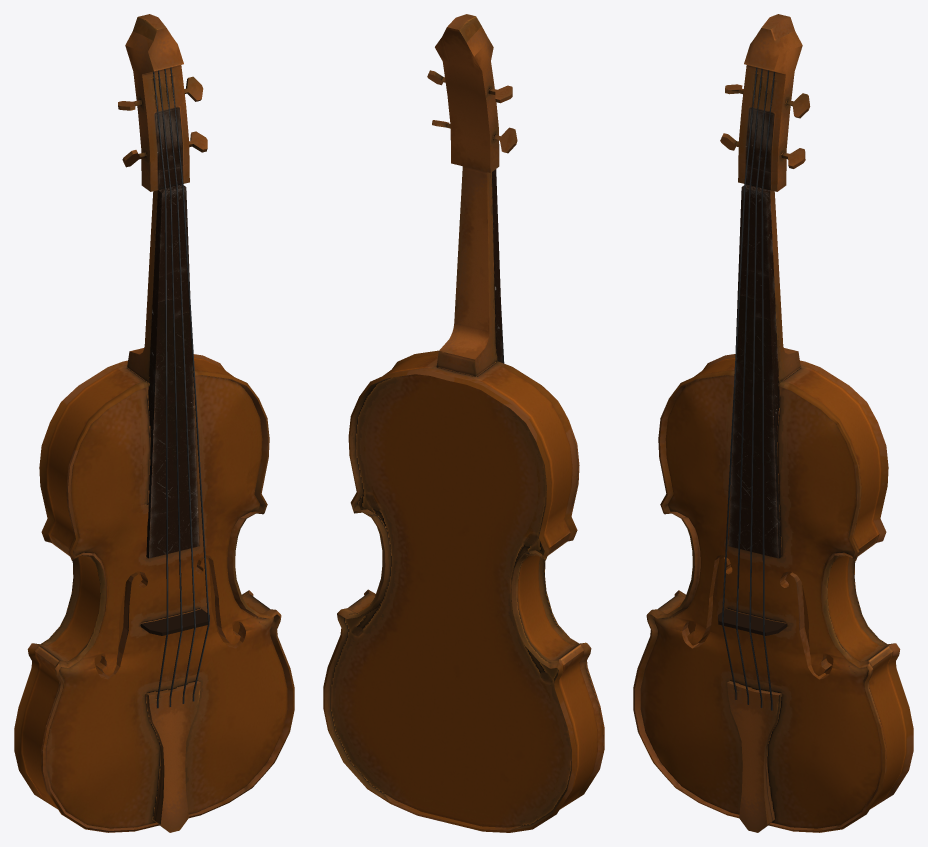
The model's file is Baroque_Violin.fbx.
3 renders of one model, left to right at view 1: azimuth 30°, elevation 25°; view 2: azimuth 150°, elevation 25°; view 3: azimuth 330°, elevation 25°, orthographic.
Parts seen in each view (by area): view 1: Cube.002; view 2: Cube.002; view 3: Cube.002.
Boxes of the visible parts, x1,y1,x2,y2 form: Cube.002: (14,14,294,832); Cube.002: (323,14,604,832); Cube.002: (633,14,913,832).
Size of the model in its own units: 430 by 1293 by 141.
